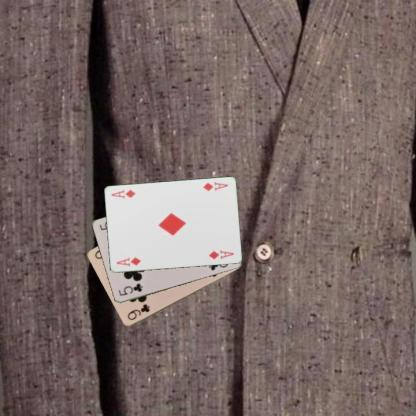5c: (115, 281, 144, 297)
9c: (125, 301, 151, 322)
Ad: (114, 254, 142, 269), (200, 179, 229, 193)
